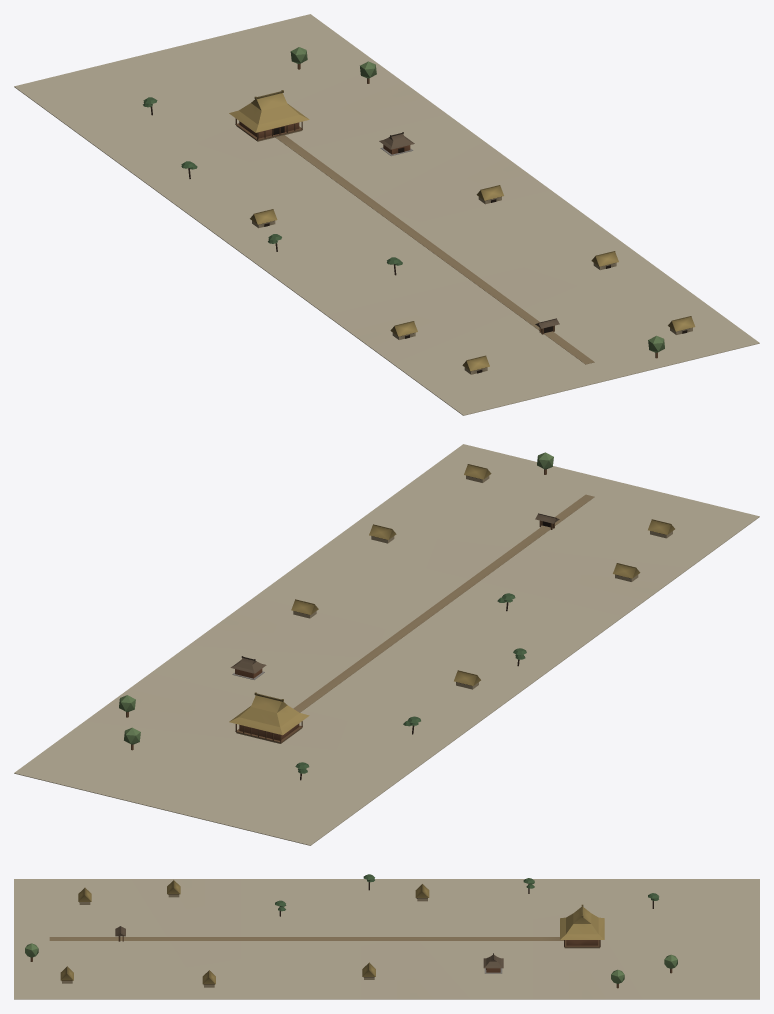
Rendered from sensoji-1460.glb.
3 views of the same model, one above another, from view 1: azimuth 30°, elevation 25°; view 2: azimuth 150°, elevation 25°; view 3: azimuth 270°, elevation 25° (orthographic). The views are drawn at different scales.
Visible parts, largest first — view 1: p0_precinct, p2_hall; view 2: p0_precinct, p2_hall; view 3: p0_precinct, p2_hall.
Part boxes in pixels (bbox=[...]): p0_precinct: bbox=[14, 14, 759, 415]; p2_hall: bbox=[143, 47, 695, 374]; p0_precinct: bbox=[14, 444, 759, 845]; p2_hall: bbox=[119, 452, 674, 780]; p0_precinct: bbox=[14, 879, 759, 999]; p2_hall: bbox=[25, 874, 677, 988].
Size of the model in its own units: 160 by 18.22 by 420.
